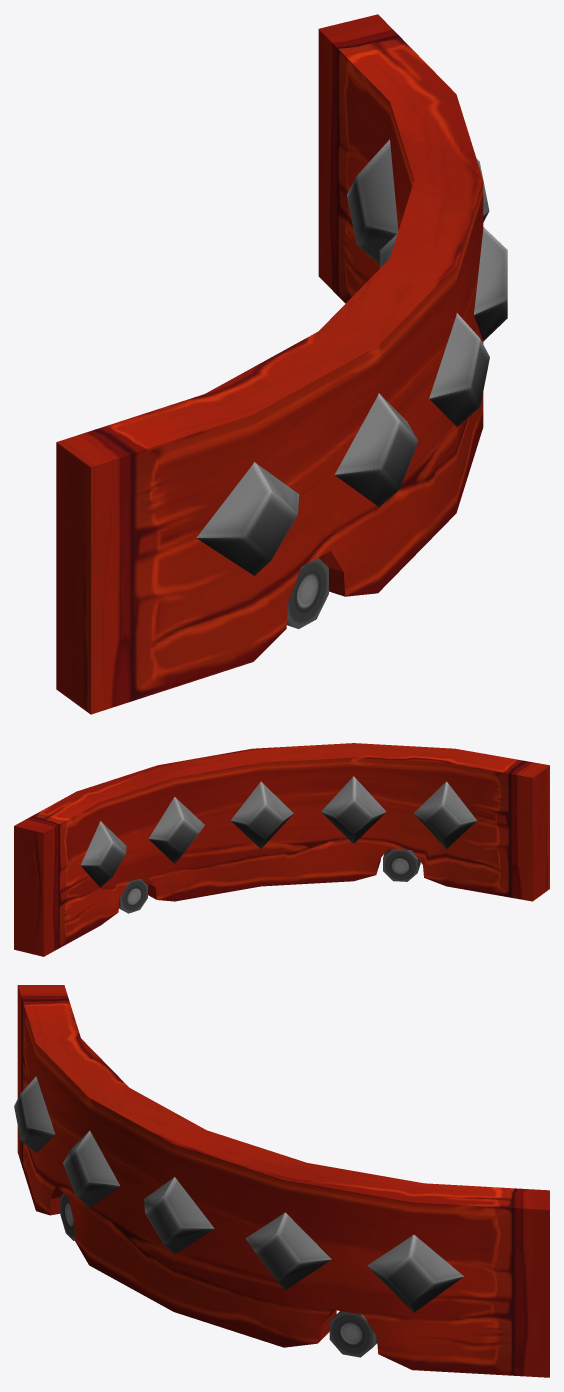
Rendered from dynamic_arched_fence_red_03.fbx.
The picture shows the model from 3 angles, top to bottom: view 1: azimuth 30°, elevation 25°; view 2: azimuth 150°, elevation 25°; view 3: azimuth 270°, elevation 25°; orthographic projection. The views are drawn at different scales.
Visible parts, largest first — view 1: dynamic_arched_fence_red_03; view 2: dynamic_arched_fence_red_03; view 3: dynamic_arched_fence_red_03.
Part boxes in pixels (x1,y1,x2,y2): dynamic_arched_fence_red_03: [56, 14, 507, 714]; dynamic_arched_fence_red_03: [14, 743, 549, 956]; dynamic_arched_fence_red_03: [14, 985, 549, 1377].
Bounding box in the file's own units: 116 × 40 × 116.
